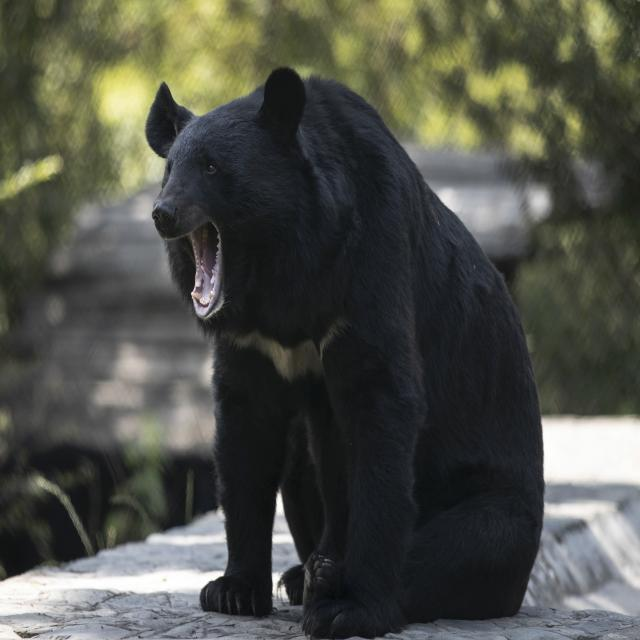bear: (146, 67, 544, 638)
